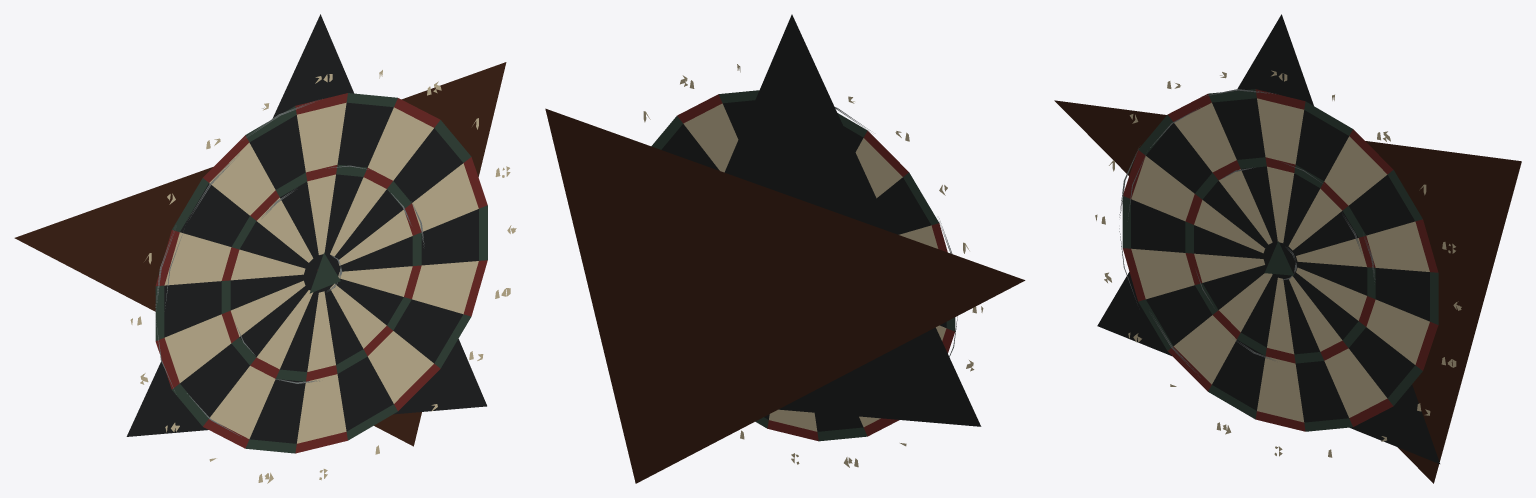
File: PubDartboard.glb
3 views of the same model, side by side, from view 1: azimuth 30°, elevation 25°; view 2: azimuth 150°, elevation 25°; view 3: azimuth 330°, elevation 25° (orthographic). The views are drawn at different scales.
Visible parts, largest first — view 1: OakDartboardSurround, DarkSisalBase, DartScoringBed.062, DartScoringBed.034, DartScoringBed.074, DartScoringBed.002, DartScoringBed.026, DartScoringBed.066, DartScoringBed.006, DartScoringBed.042, DartScoringBed.022, DartScoringBed.038 (+32 smaller); view 2: OakDartboardSurround, DarkSisalBase, DartScoringBed.010, DartScoringBed.070, DartScoringBed.074, DartScoringBed.014, DartScoringBed.046, DartScoringBed.042, DartScoringBed.006; view 3: OakDartboardSurround, DarkSisalBase, DartScoringBed.066, DartScoringBed.078, DartScoringBed.038, DartScoringBed.042, DartScoringBed.002, DartScoringBed.018, DartScoringBed.058, DartScoringBed.062, DartScoringBed.050, DartScoringBed.006 (+31 smaller).
Boxes of the visible parts, x1,y1,x2,y2 form: OakDartboardSurround: (14,62,506,446); DarkSisalBase: (126,14,486,436); DartScoringBed.062: (164,281,221,337); DartScoringBed.034: (368,331,433,403); DartScoringBed.074: (209,142,275,215); DartScoringBed.002: (297,102,346,172); DartScoringBed.026: (412,261,478,314); DartScoringBed.066: (164,232,231,285); DartScoringBed.006: (337,102,393,167); DartScoringBed.042: (297,374,346,443); DartScoringBed.022: (421,209,478,265); DartScoringBed.038: (337,356,393,431); OakDartboardSurround: (545,108,1025,483); DarkSisalBase: (724,14,981,426); DartScoringBed.010: (683,103,738,172); DartScoringBed.070: (876,177,930,234); DartScoringBed.074: (855,138,902,198); DartScoringBed.014: (661,124,719,170); DartScoringBed.046: (814,412,863,431); DartScoringBed.042: (769,409,817,431); DartScoringBed.006: (722,100,754,139); OakDartboardSurround: (1054,100,1521,483); DarkSisalBase: (1097,14,1439,463); DartScoringBed.066: (1131,156,1194,221); DartScoringBed.078: (1212,98,1265,159); DartScoringBed.038: (1295,361,1348,422); DartScoringBed.042: (1257,356,1304,422); DartScoringBed.002: (1257,98,1303,164); DartScoringBed.018: (1366,221,1429,271); DartScoringBed.058: (1131,248,1194,299); DartScoringBed.062: (1131,199,1185,252); DartScoringBed.050: (1173,315,1236,384); DartScoringBed.006: (1295,110,1348,180).
Size of the model in its own units: 2.72 by 2.58 by 0.354.
